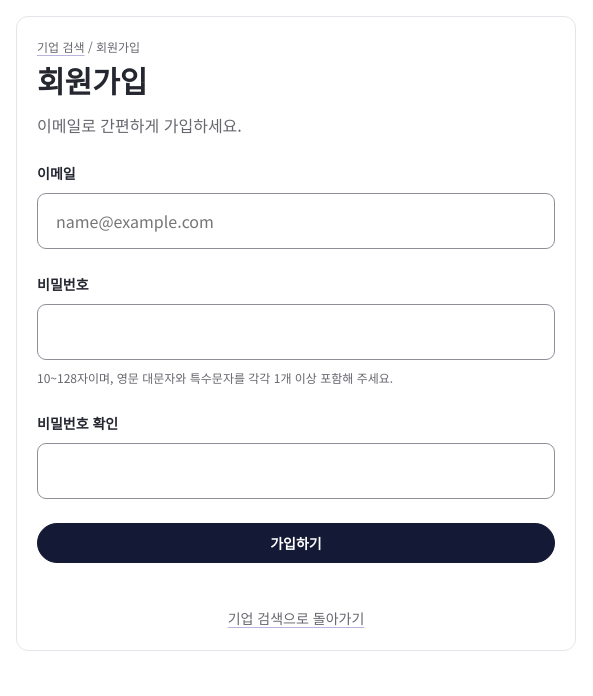
회원가입 화면 › 비밀번호 불일치는 요청 없이 안내하고 해당 입력으로 초점을 옮긴다
Type "Member@Example.COM" into the field labelled "이메일".
click(296, 221); type("Member@Example.COM")  # box x1=37 y1=193 x2=555 y2=249
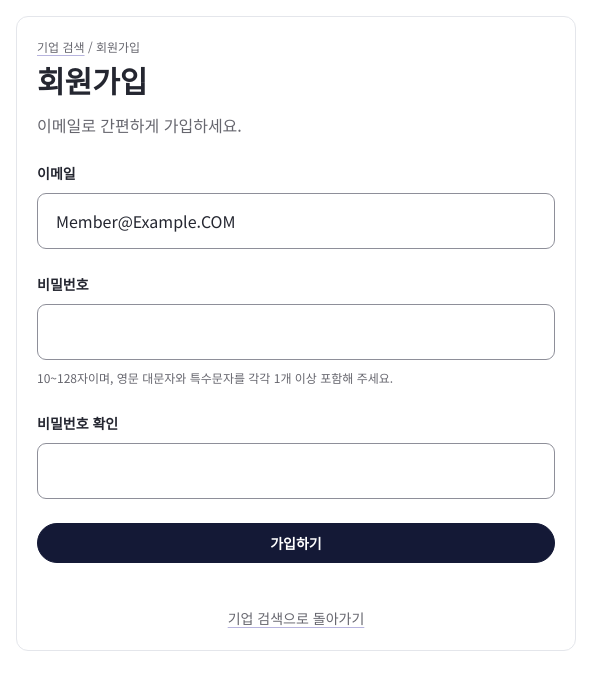
Type "Sample!password" into the password field labelled "비밀번호".
click(296, 332); type("Sample!password")  # box x1=37 y1=304 x2=555 y2=360
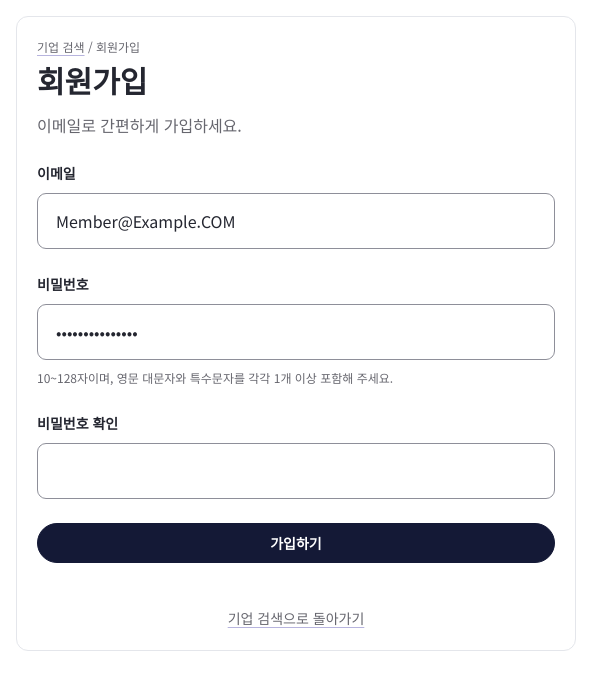
Type "Different!password" into the password field labelled "비밀번호 확인".
click(296, 471); type("Different!password")  # box x1=37 y1=443 x2=555 y2=499
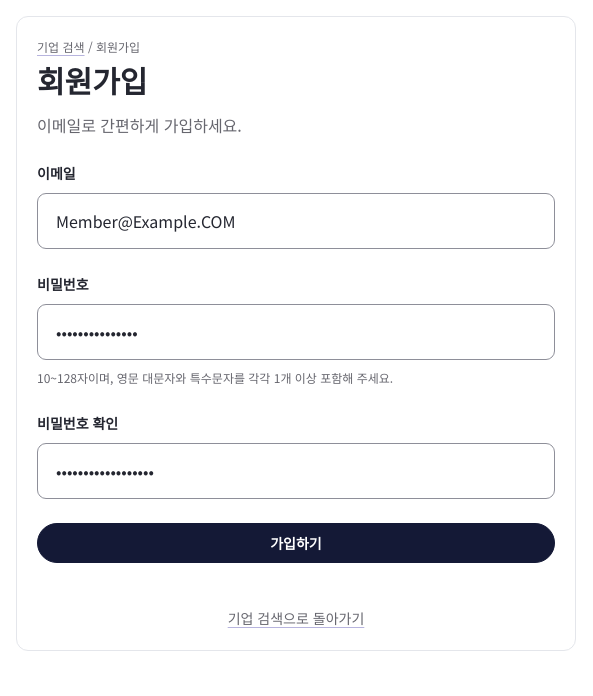
Click the button "가입하기".
click(296, 543)  # box x1=37 y1=523 x2=555 y2=563
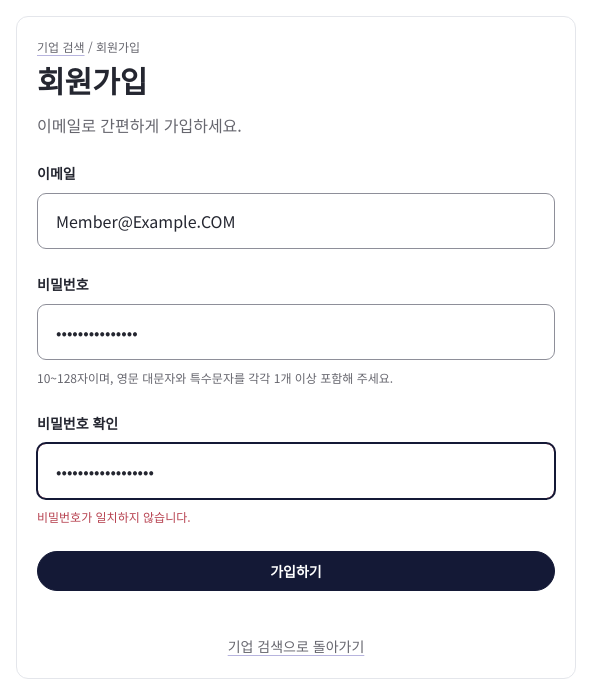
Expected: the text "비밀번호가 일치하지 않습니다." is shown, x1=37 y1=508 x2=191 y2=525
